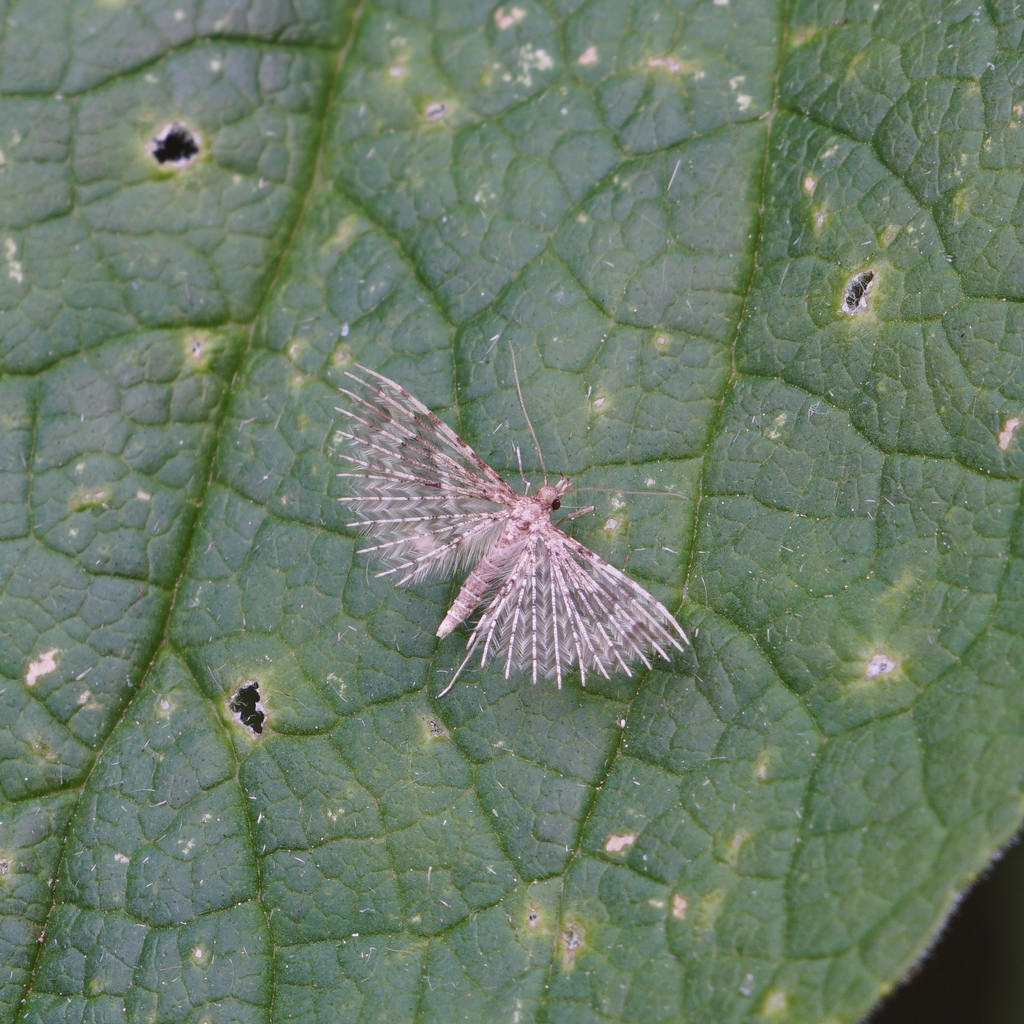Alucitidae: (329, 321, 717, 707)
moth: (327, 319, 715, 705)
